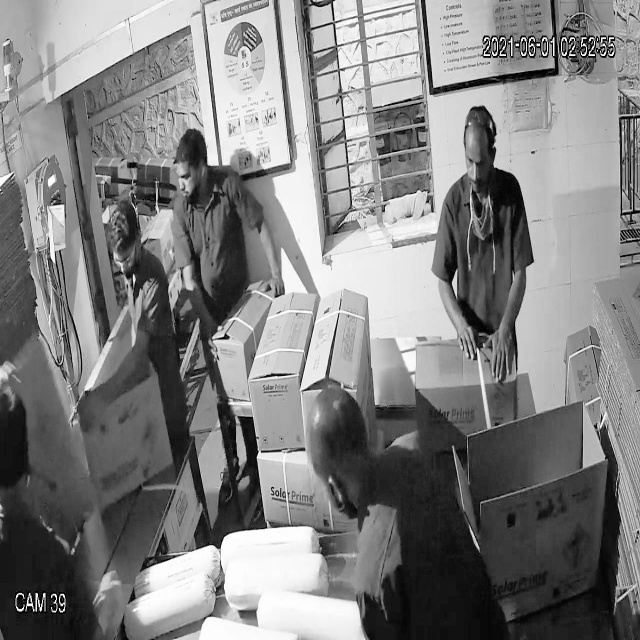Gafas: (106, 244, 148, 277)
Sin_gafas: (461, 143, 496, 176)
